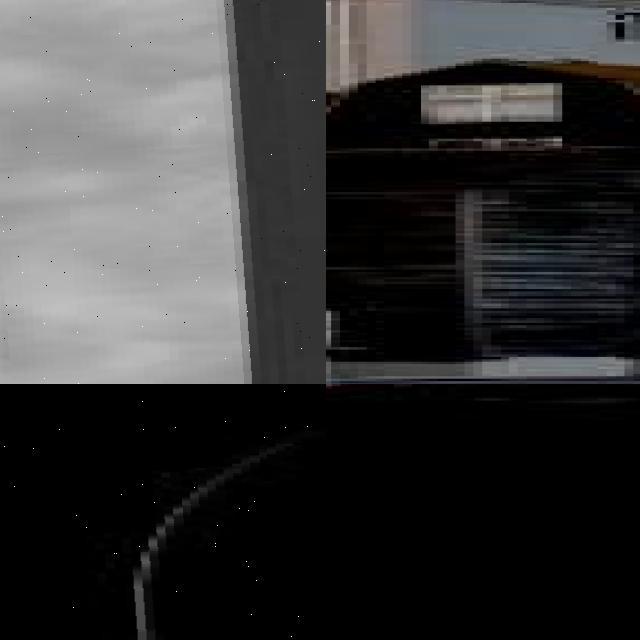street light: (0, 0, 326, 384), (0, 384, 326, 640), (97, 389, 326, 640)
